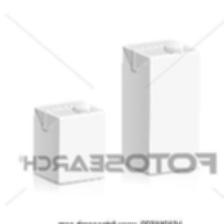carton: (118, 35, 204, 183), (26, 95, 109, 189)
